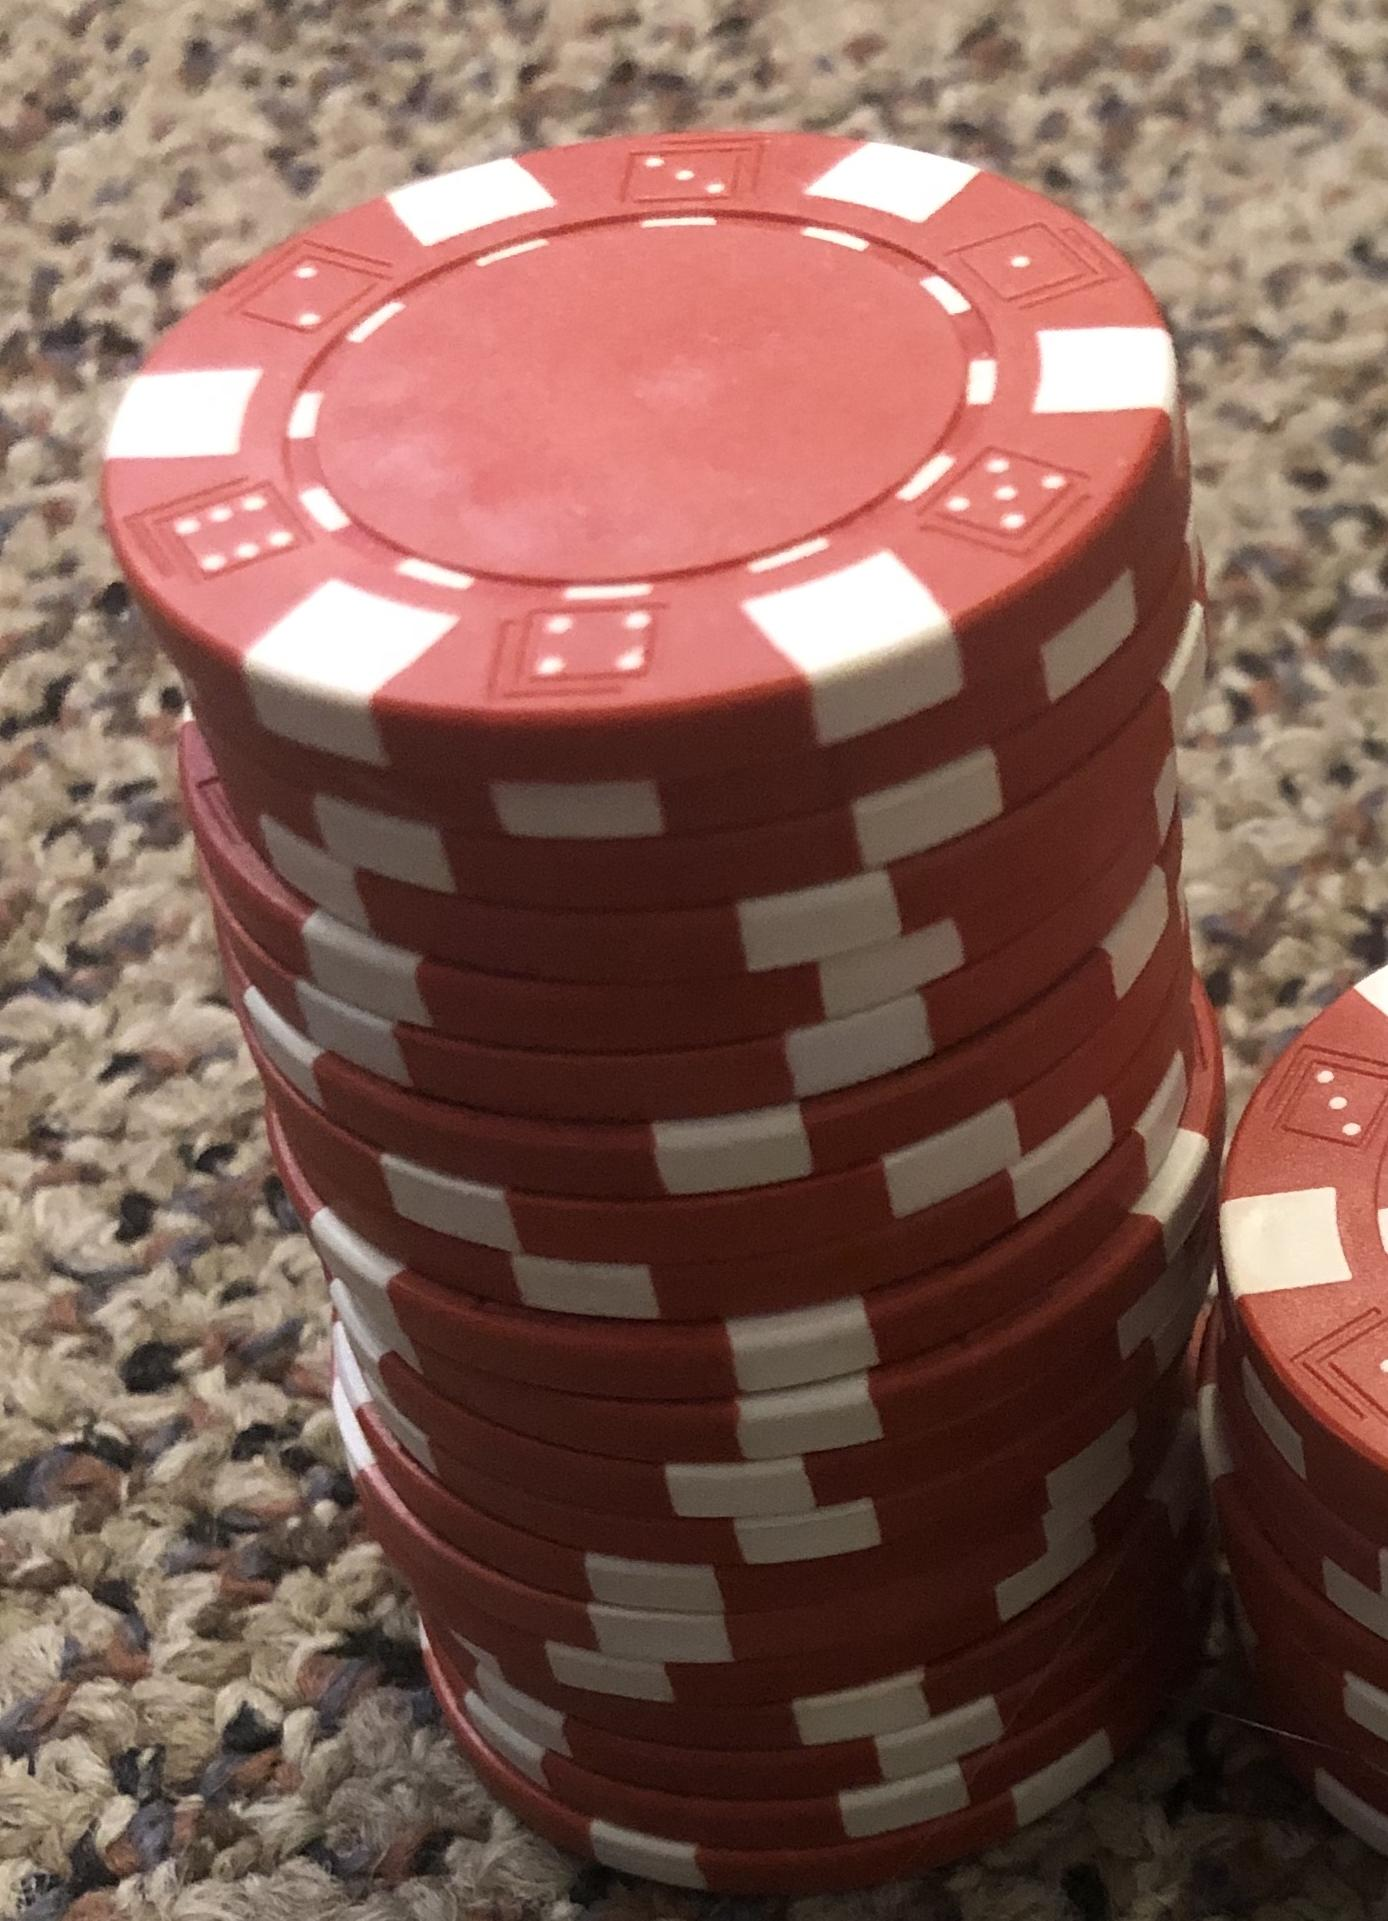Chip: (1, 1, 1388, 1921)
